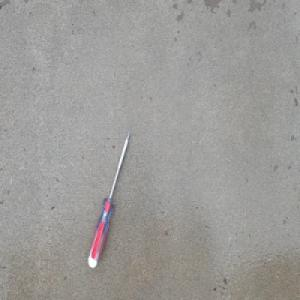Screwdriver: (87, 129, 131, 270)
